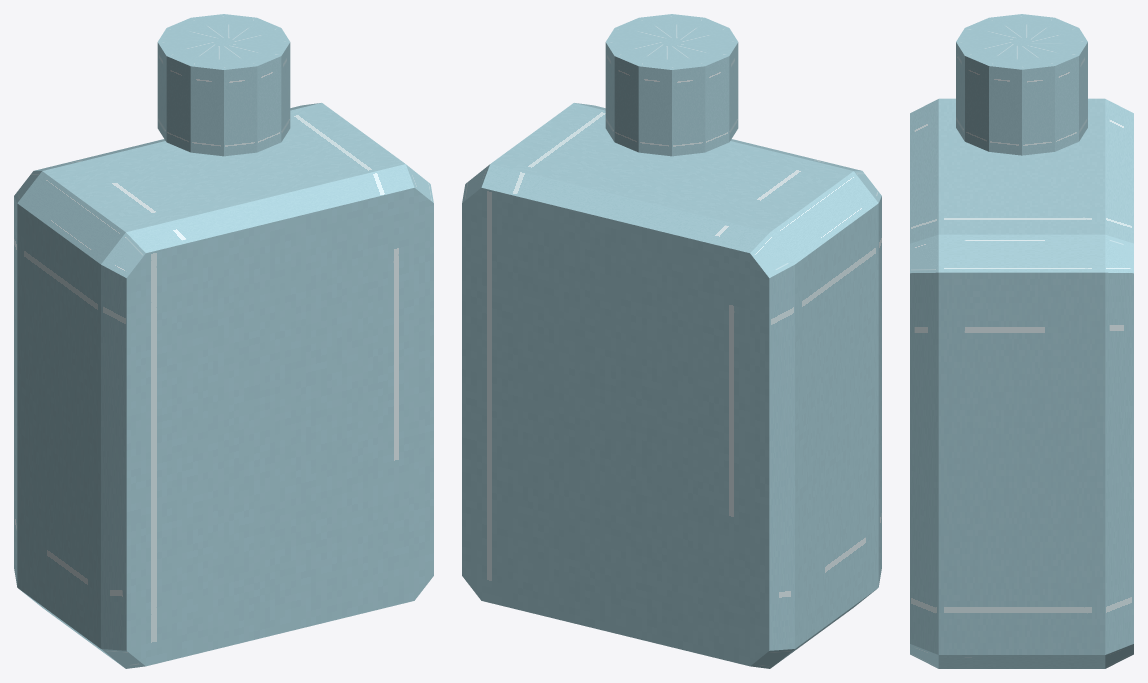
File: water_flask_glass.obj
3 views of the same model, side by side, from view 1: azimuth 30°, elevation 25°; view 2: azimuth 150°, elevation 25°; view 3: azimuth 270°, elevation 25° (orthographic).
Visible parts, largest first — view 1: water_flask_glass; view 2: water_flask_glass; view 3: water_flask_glass.
Part boxes in pixels (<box>): water_flask_glass: <box>14,14,433,668</box>; water_flask_glass: <box>462,14,881,668</box>; water_flask_glass: <box>910,14,1133,668</box>.
Bounding box in the file's own units: 0.4125 × 0.6719 × 0.2437.
